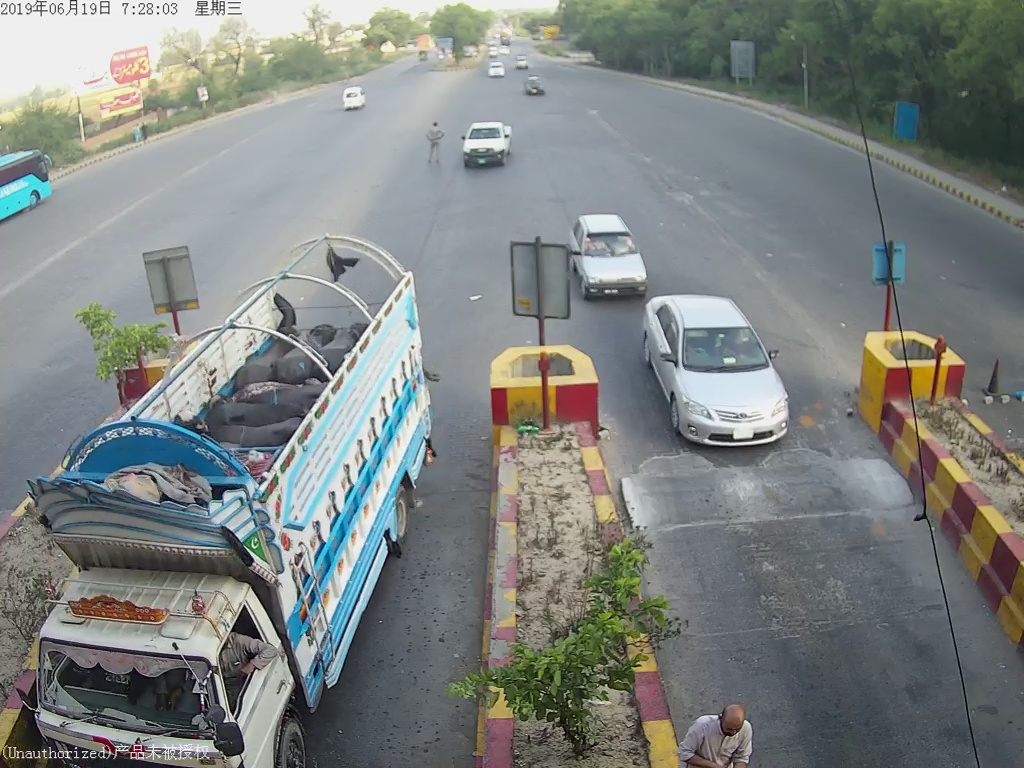Cat-1: (640, 295, 802, 453), (571, 203, 641, 286), (462, 122, 509, 166)
Cat-4: (31, 228, 444, 752)
